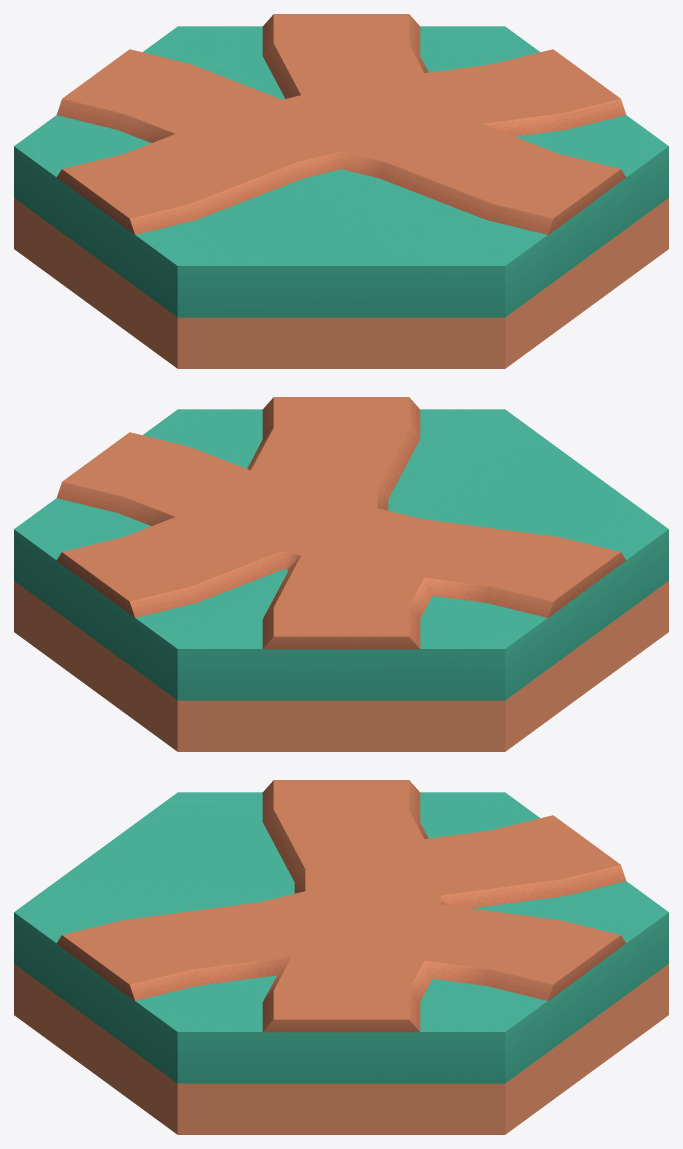
Rendered from grass-path-intersectionG.glb.
The picture shows the model from 3 angles, top to bottom: view 1: azimuth 30°, elevation 25°; view 2: azimuth 150°, elevation 25°; view 3: azimuth 270°, elevation 25°; orthographic projection.
Parts seen in each view (by area): view 1: grass, path-intersectionG; view 2: grass, path-intersectionG; view 3: grass, path-intersectionG.
Part boxes in pixels (x1,y1,x2,y2): grass: (14,26,668,368); path-intersectionG: (56,14,626,234); grass: (14,409,668,751); path-intersectionG: (56,397,626,649); grass: (14,792,668,1134); path-intersectionG: (56,780,626,1032).
Bounding box in the file's own units: 1 × 0.224 × 1.15.
1 material, 1 textured.
